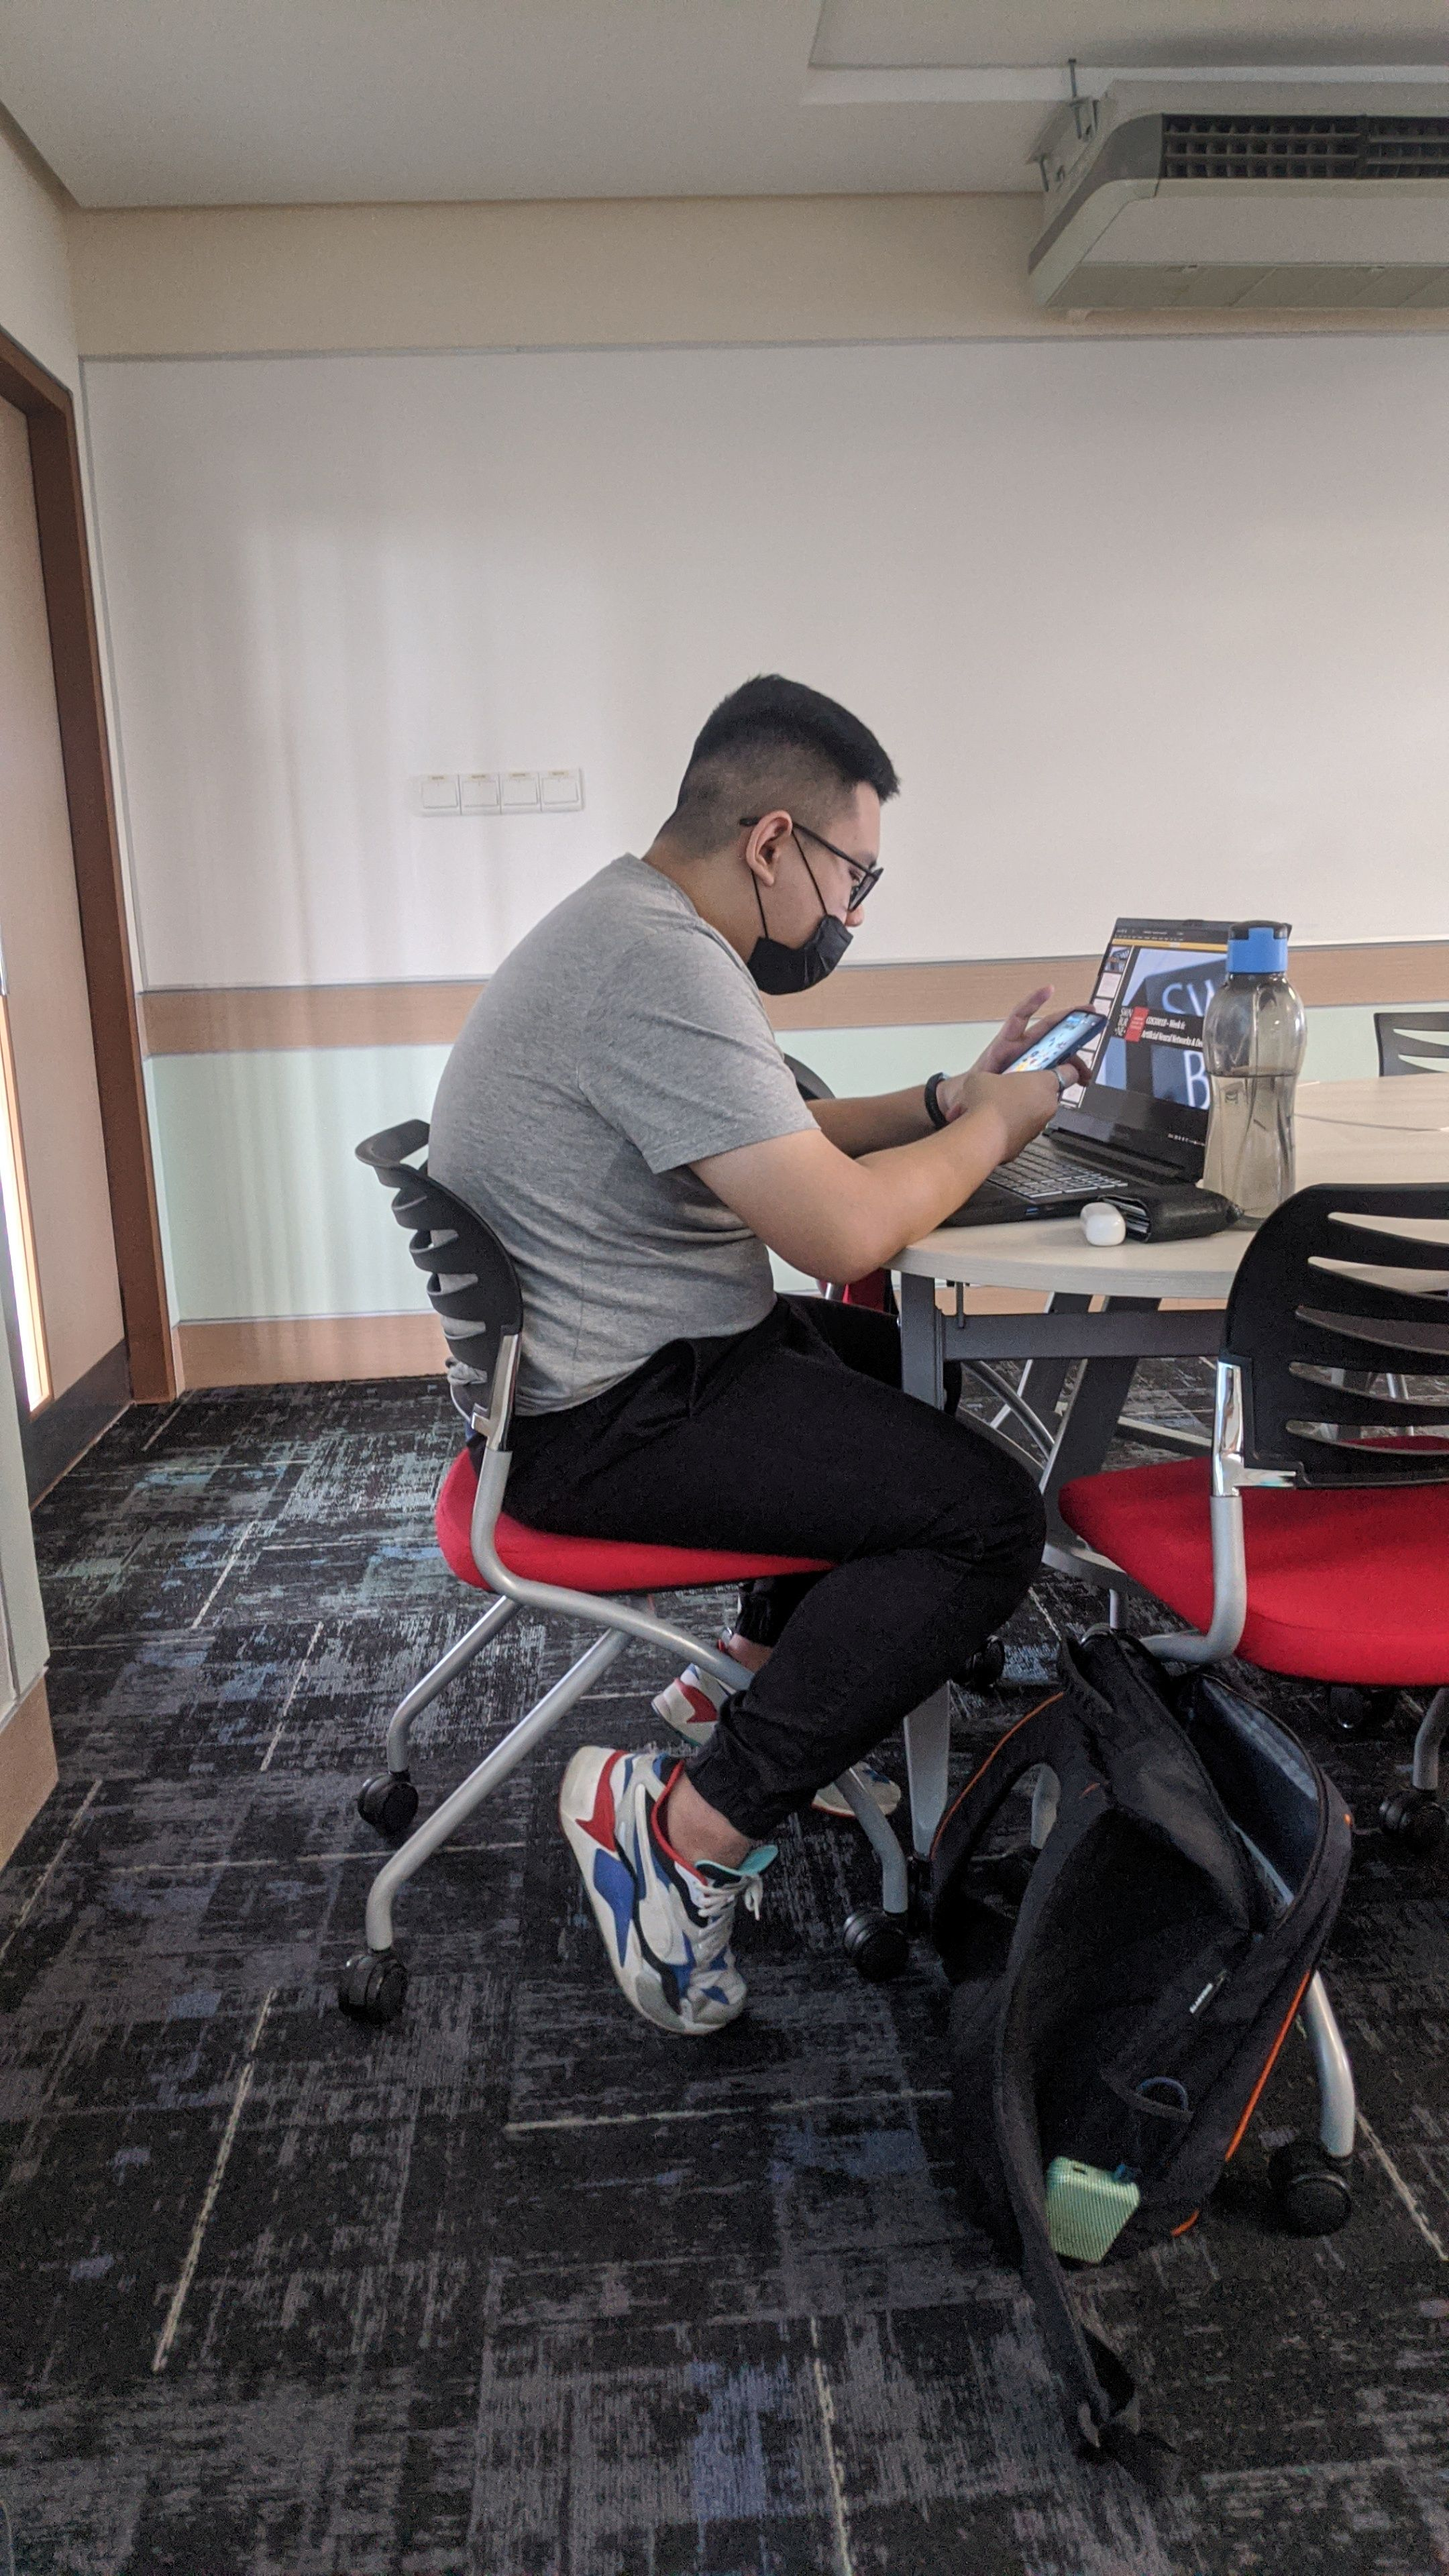sit: (419, 573, 1077, 1966)
